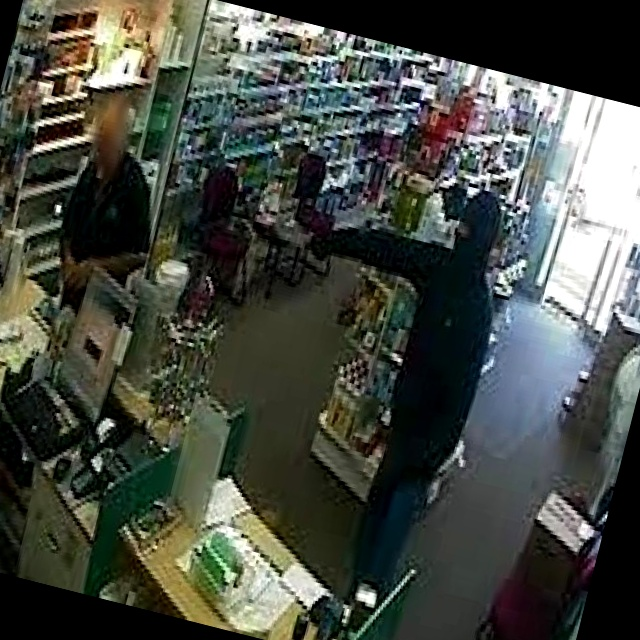gun: (300, 213, 358, 267)
